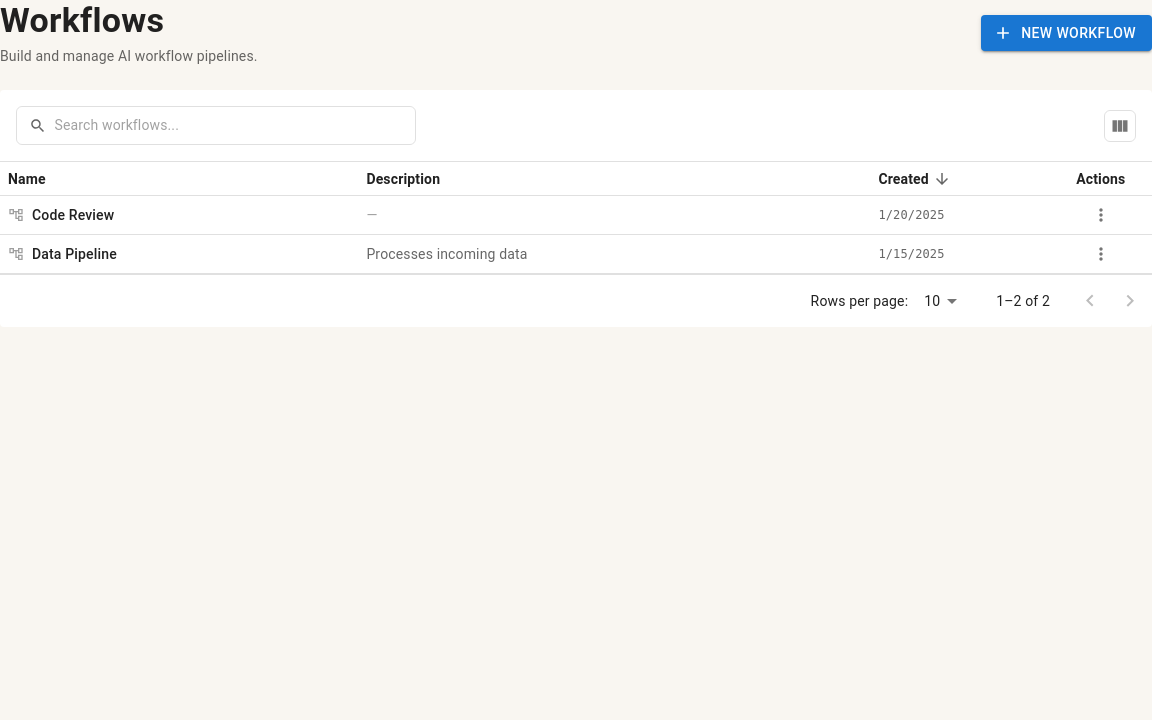
Test case: WorkflowsPage › opens confirm modal when delete action is clicked
The width and height of the screenshot is (1152, 720).
Click the button named "Actions for". click: {"x": 1101, "y": 215}
box: [1086,200,1116,230]
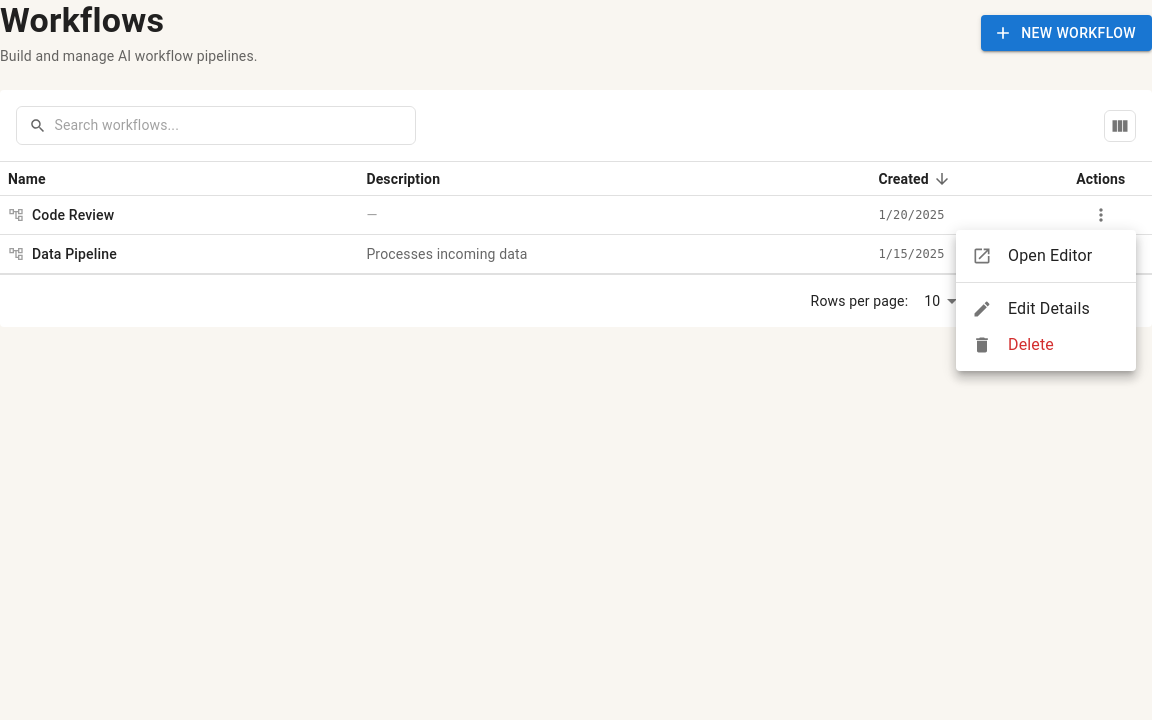
Click the menu item "Delete". click: {"x": 1013, "y": 345}
box: [972,335,1054,355]
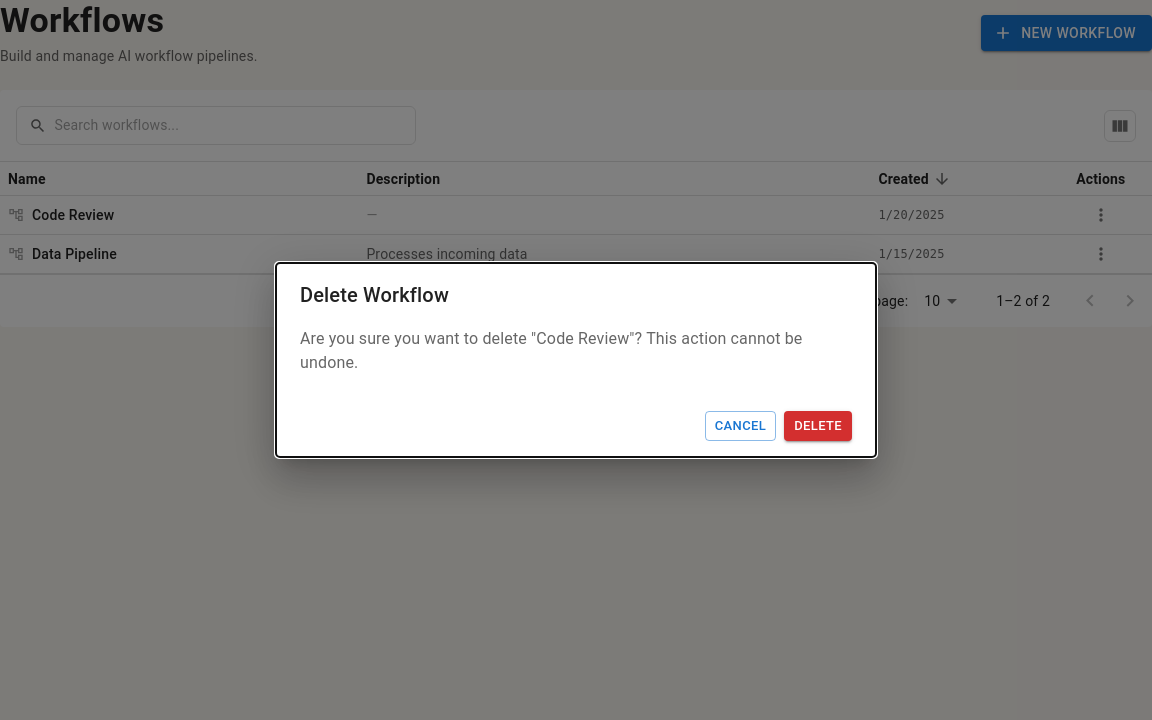
Now the heading "Delete Workflow" is shown, box [300,283,449,307]
Now the text "Are you sure you want to delete" is shown, box [300,329,802,372]
